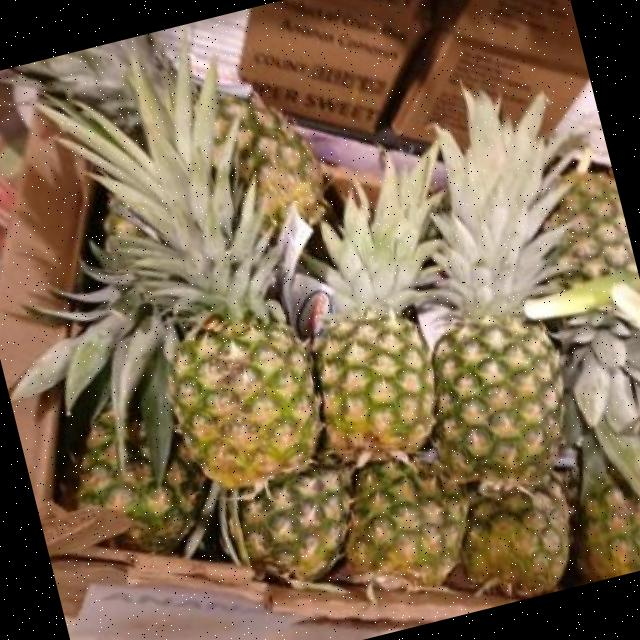pineapple: (46, 58, 321, 488), (432, 90, 568, 482), (310, 147, 437, 458), (524, 171, 640, 496), (80, 411, 208, 549), (345, 463, 467, 585), (17, 37, 172, 130), (217, 94, 323, 225), (462, 480, 570, 595), (241, 467, 347, 578), (577, 483, 640, 580)
